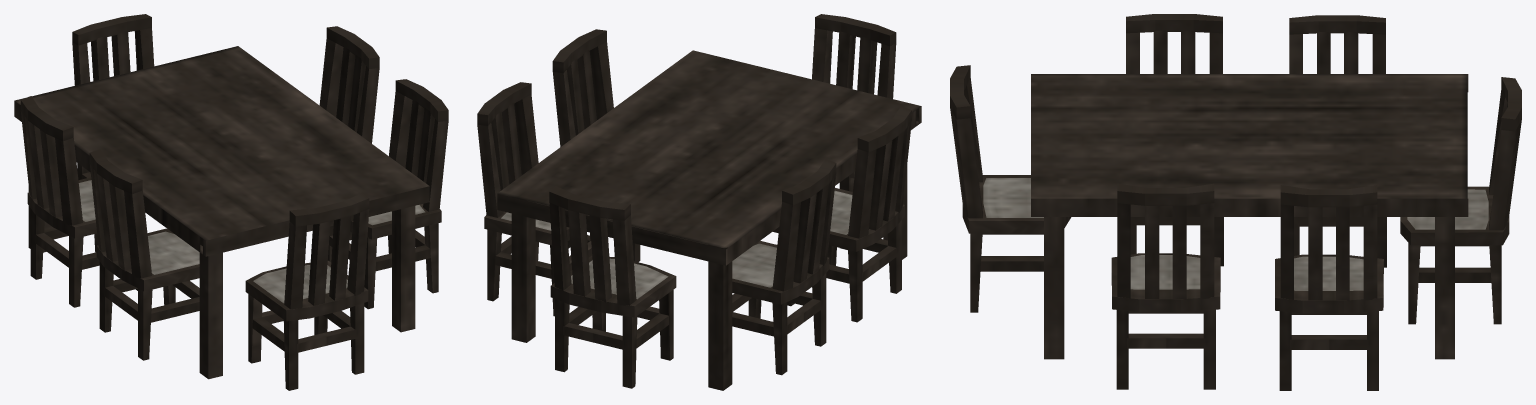
File: SM_EC_KitchenTable_Complete_0.fbx
3 renders of one model, left to right at view 1: azimuth 30°, elevation 25°; view 2: azimuth 150°, elevation 25°; view 3: azimuth 270°, elevation 25°, orthographic. The views are drawn at different scales.
Visible parts, largest first — view 1: SM_EC_KitchenTable_Complete_0, SM_EC_KitchenChair_1.004, SM_EC_KitchenChair_0.006, SM_EC_KitchenChair_1.006, SM_EC_KitchenChair_1.005, SM_EC_KitchenChair_0.005, SM_EC_KitchenChair_0.004; view 2: SM_EC_KitchenTable_Complete_0, SM_EC_KitchenChair_0.004, SM_EC_KitchenChair_1.006, SM_EC_KitchenChair_0.006, SM_EC_KitchenChair_0.005, SM_EC_KitchenChair_1.004, SM_EC_KitchenChair_1.005; view 3: SM_EC_KitchenTable_Complete_0, SM_EC_KitchenChair_1.005, SM_EC_KitchenChair_0.005, SM_EC_KitchenChair_0.004, SM_EC_KitchenChair_1.004, SM_EC_KitchenChair_0.006, SM_EC_KitchenChair_1.006.
Boxes of the visible parts, x1,y1,x2,y2 form: SM_EC_KitchenTable_Complete_0: (14, 46, 429, 379); SM_EC_KitchenChair_1.004: (245, 192, 369, 390); SM_EC_KitchenChair_0.006: (89, 149, 199, 360); SM_EC_KitchenChair_1.006: (20, 96, 137, 307); SM_EC_KitchenChair_1.005: (327, 79, 448, 309); SM_EC_KitchenChair_0.005: (319, 26, 379, 143); SM_EC_KitchenChair_0.004: (72, 14, 154, 180); SM_EC_KitchenTable_Complete_0: (497, 50, 921, 390); SM_EC_KitchenChair_0.004: (549, 186, 676, 388); SM_EC_KitchenChair_1.006: (732, 159, 836, 375); SM_EC_KitchenChair_0.006: (787, 106, 911, 322); SM_EC_KitchenChair_0.005: (477, 82, 592, 316); SM_EC_KitchenChair_1.004: (773, 14, 896, 249); SM_EC_KitchenChair_1.005: (552, 29, 640, 262); SM_EC_KitchenTable_Complete_0: (1031, 74, 1468, 359); SM_EC_KitchenChair_1.005: (1111, 183, 1220, 389); SM_EC_KitchenChair_0.005: (1275, 185, 1383, 390); SM_EC_KitchenChair_0.004: (1400, 77, 1521, 324); SM_EC_KitchenChair_1.004: (950, 65, 1071, 312); SM_EC_KitchenChair_0.006: (1126, 14, 1223, 266); SM_EC_KitchenChair_1.006: (1289, 15, 1386, 267).
Bounding box in the file's own units: 2.12 × 2.83 × 1.13.
